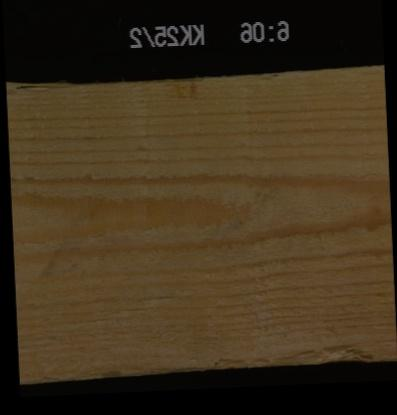wave: (205, 342, 377, 365), (4, 82, 73, 95)
